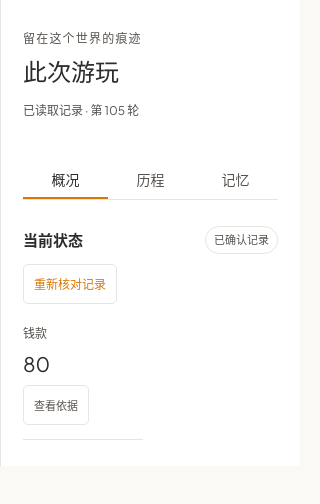
Test: mechanism-specific dossier › shows a source failure and retries without changing state
Click the button "查看依据" at coordinates (56, 405), box top-left (23, 385), bottom-right (89, 425)
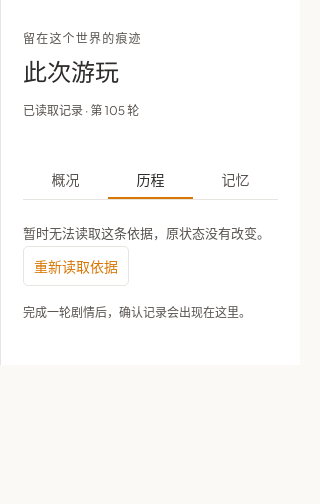
Result: the message "暂时无法读取这条依据，原状态没有改变。 重新读取依据" is shown at top-left (23, 222), bottom-right (278, 286)
Click the button "重新读取依据" at coordinates (76, 266), box top-left (23, 246), bottom-right (129, 286)
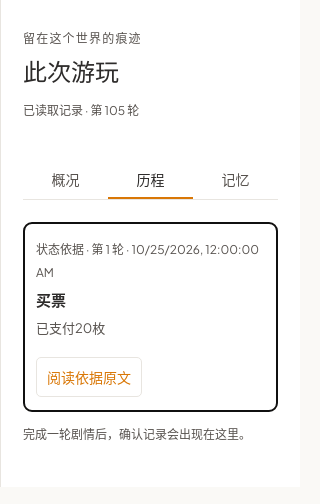
Result: the element named "所选状态依据" is shown at top-left (23, 222), bottom-right (278, 412)
